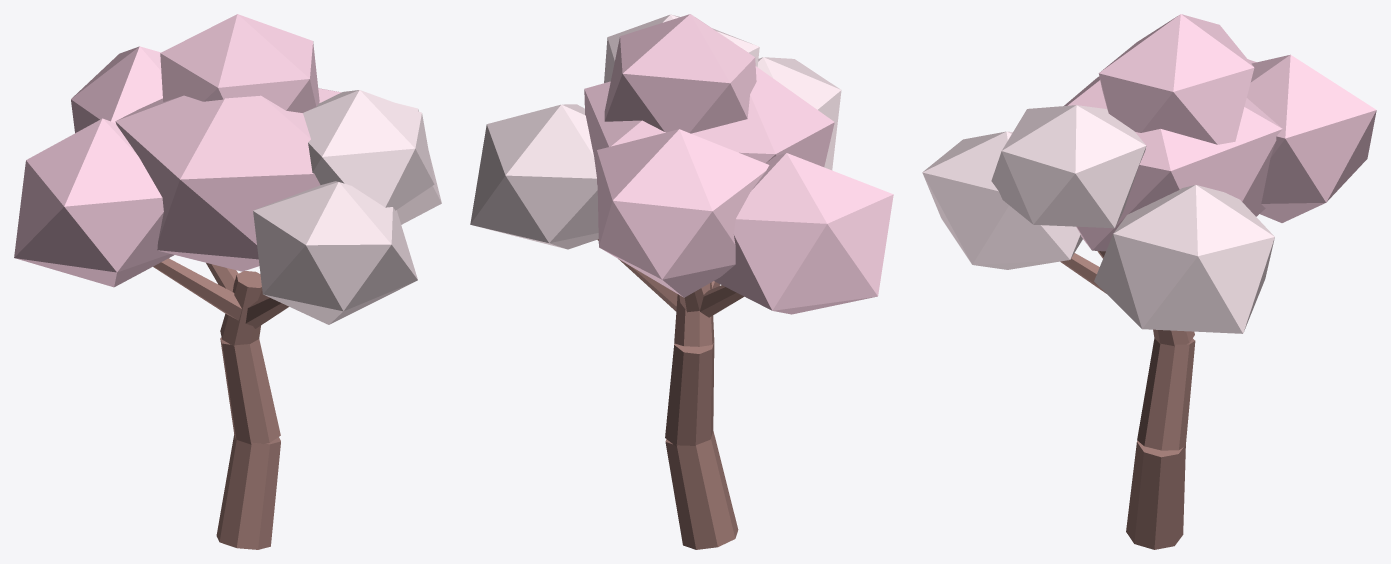
The model's file is Tree_Cherry.fbx.
3 renders of one model, left to right at view 1: azimuth 30°, elevation 25°; view 2: azimuth 150°, elevation 25°; view 3: azimuth 270°, elevation 25°, orthographic. The views are drawn at different scales.
Parts seen in each view (by area): view 1: Tree_Cherry_Mesh; view 2: Tree_Cherry_Mesh; view 3: Tree_Cherry_Mesh.
Boxes of the visible parts, x1,y1,x2,y2 form: Tree_Cherry_Mesh: (14, 14, 441, 549); Tree_Cherry_Mesh: (470, 14, 893, 549); Tree_Cherry_Mesh: (922, 14, 1376, 549).
Size of the model in its own units: 6.72 by 8.53 by 6.66.
